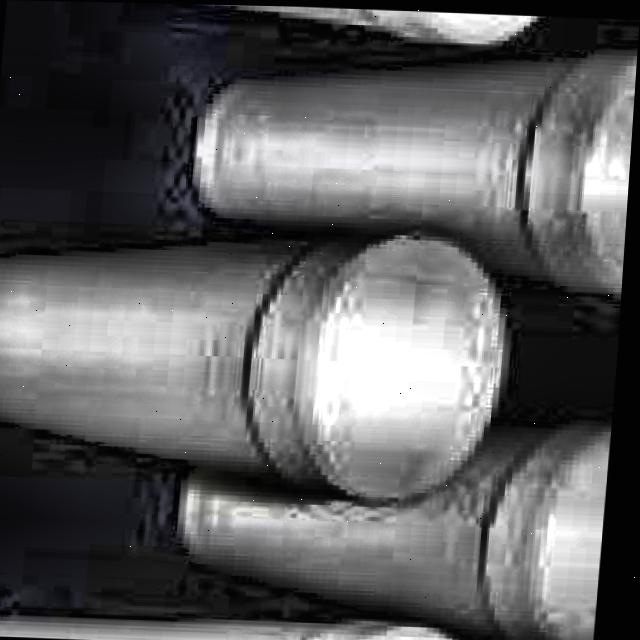paper: (0, 212, 529, 498), (187, 24, 639, 285), (180, 400, 617, 640)
